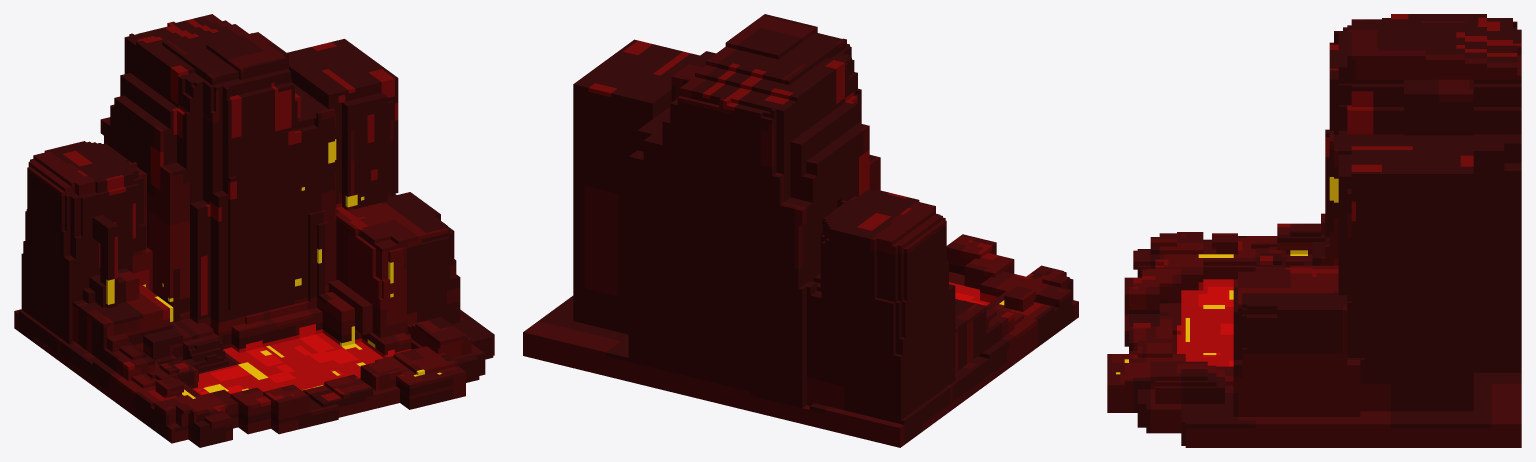
Rendered from 용광로.obj.
3 views of the same model, side by side, from view 1: azimuth 30°, elevation 25°; view 2: azimuth 150°, elevation 25°; view 3: azimuth 270°, elevation 25° (orthographic). The views are drawn at different scales.
Bounding box in the file's own units: 10 × 8 × 9.5.
1 material, 1 textured.
